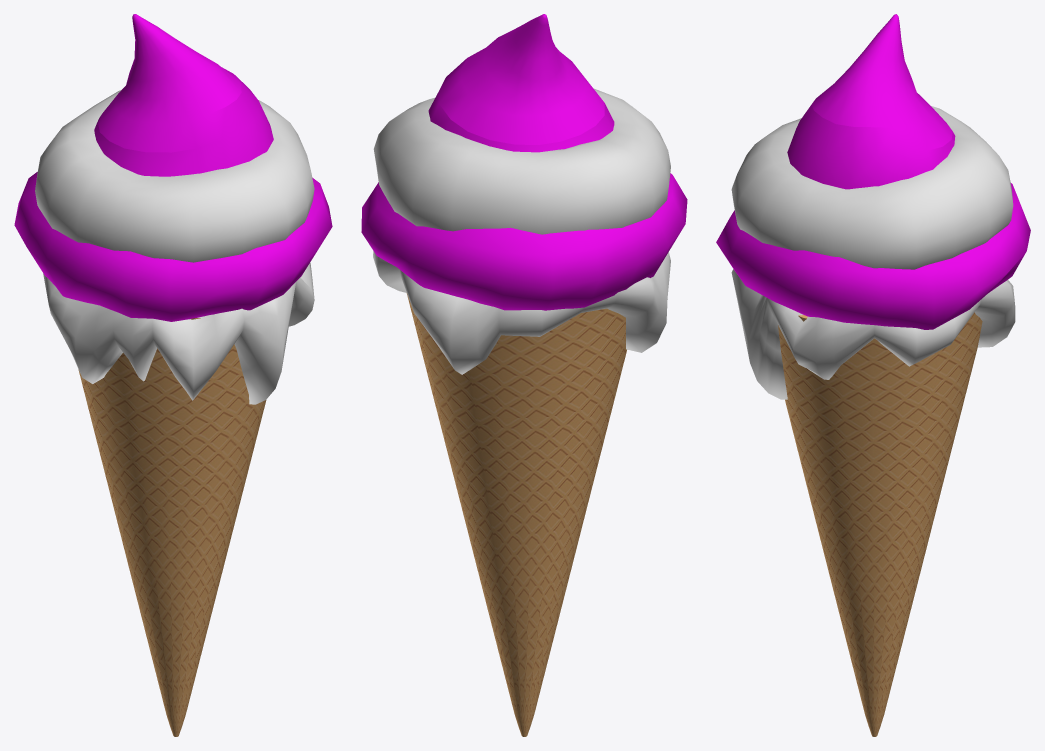
Rendered from FbxCornet.fbx.
The picture shows the model from 3 angles, left to right: view 1: azimuth 30°, elevation 25°; view 2: azimuth 150°, elevation 25°; view 3: azimuth 270°, elevation 25°; orthographic projection. The views are drawn at different scales.
Visible parts, largest first — view 1: pCylinder19, pSphere1, pTorus1, pTorus2; view 2: pCylinder19, pSphere1, pTorus1, pTorus2; view 3: pCylinder19, pSphere1, pTorus1, pTorus2.
Boxes of the visible parts, bbox=[...] form: pCylinder19: bbox=[78, 318, 266, 736]; pSphere1: bbox=[14, 14, 332, 321]; pTorus1: bbox=[35, 90, 314, 262]; pTorus2: bbox=[43, 262, 314, 404]; pCylinder19: bbox=[406, 293, 626, 736]; pSphere1: bbox=[361, 14, 687, 310]; pTorus1: bbox=[373, 88, 670, 234]; pTorus2: bbox=[373, 251, 670, 374]; pCylinder19: bbox=[778, 312, 982, 736]; pSphere1: bbox=[716, 14, 1030, 329]; pTorus1: bbox=[731, 106, 1013, 269]; pTorus2: bbox=[731, 269, 1015, 399].
Size of the model in its own units: 11.36 by 28.74 by 11.6.
Materials: 3 (1 with a texture image).
